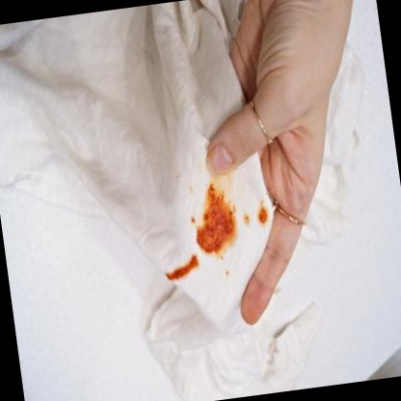kimchi: (190, 190, 240, 256), (164, 256, 206, 286), (253, 203, 274, 226), (242, 212, 254, 228), (173, 175, 185, 185), (218, 252, 228, 263), (187, 216, 196, 228), (226, 274, 232, 280)
